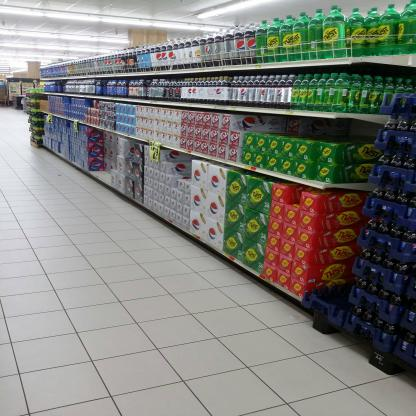Void: (276, 118, 368, 140), (180, 156, 191, 180)
